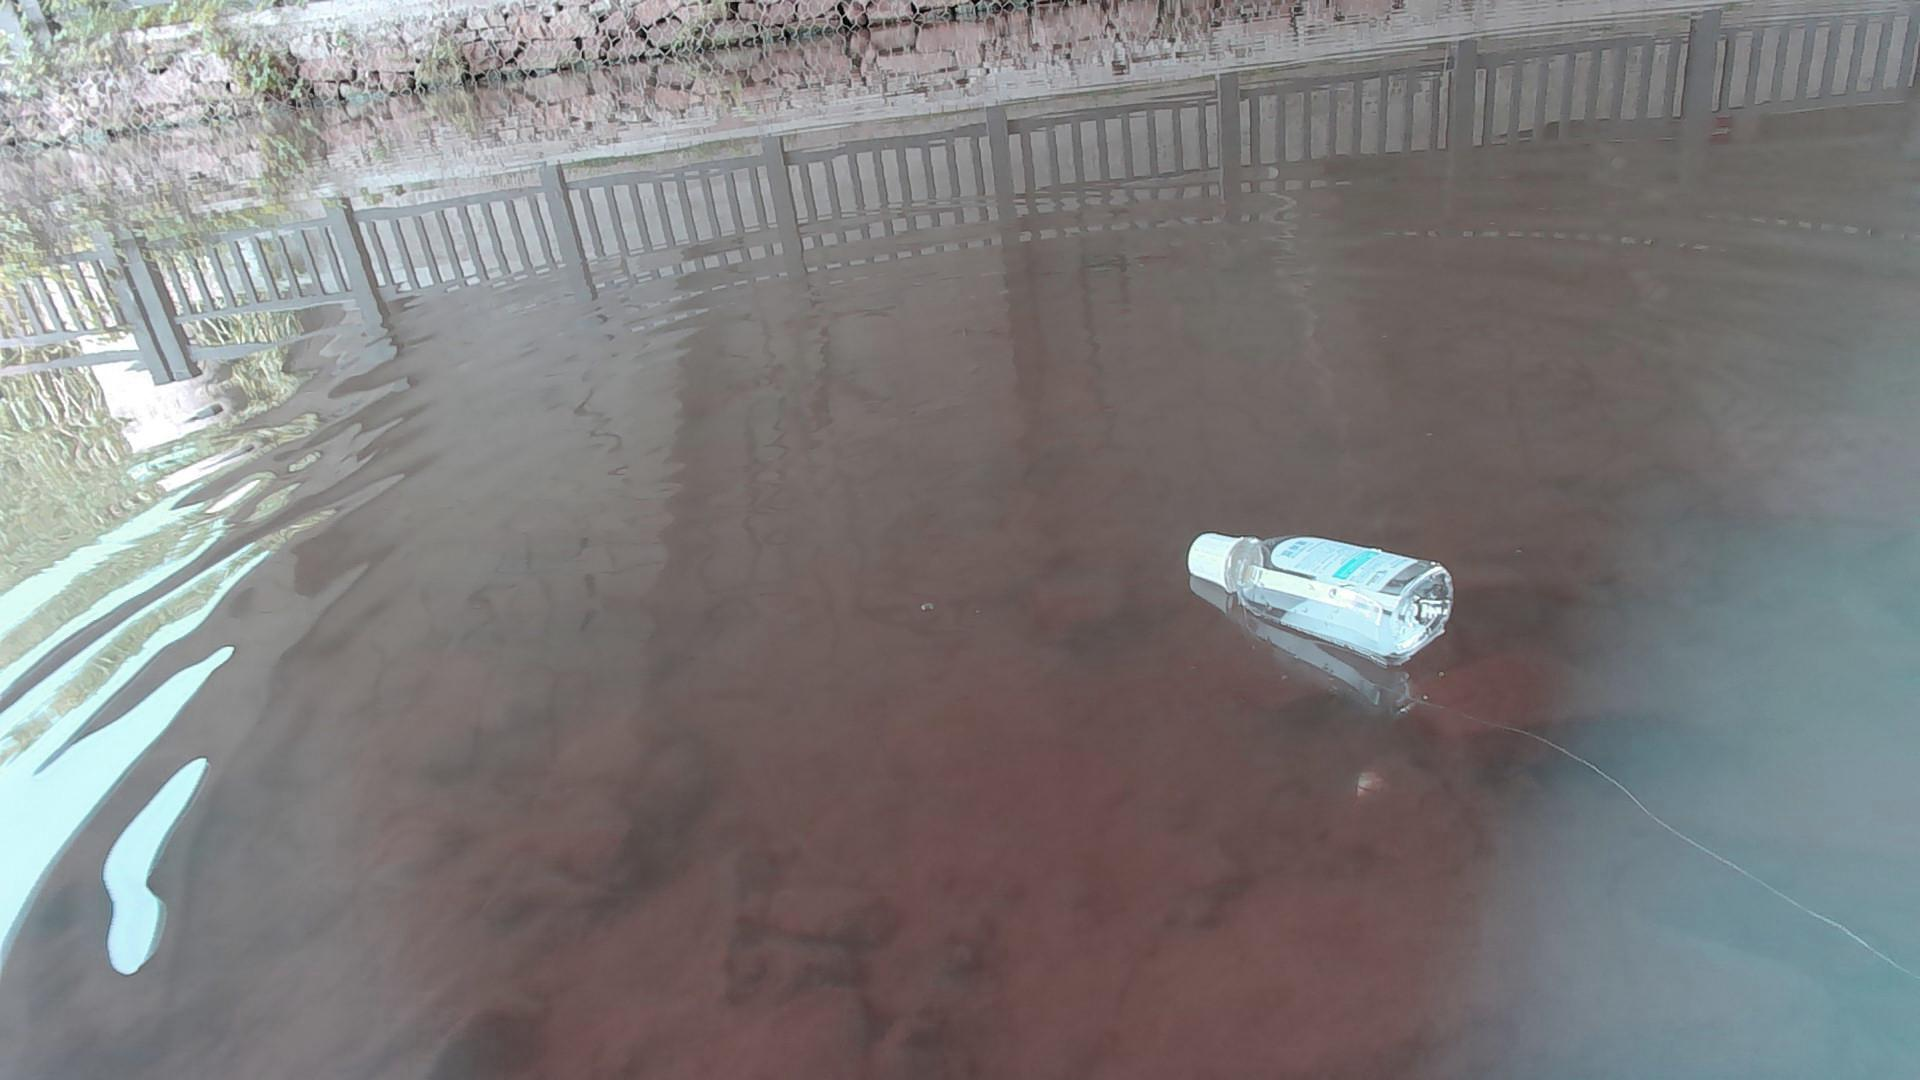Glass: (1185, 527, 1458, 670)
